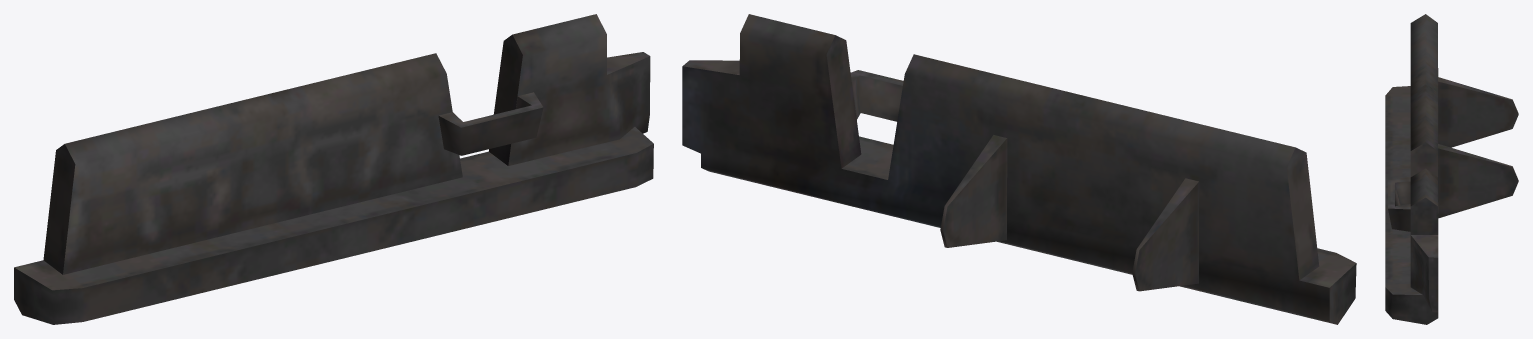
3 views of the same model, side by side, from view 1: azimuth 30°, elevation 25°; view 2: azimuth 150°, elevation 25°; view 3: azimuth 270°, elevation 25° (orthographic). The views are drawn at different scales.
Visible parts, largest first — view 1: set_0_group_0; view 2: set_0_group_0; view 3: set_0_group_0.
Boxes of the visible parts, x1=… form: set_0_group_0: x1=14, y1=14, x2=653, y2=324; set_0_group_0: x1=682, y1=14, x2=1356, y2=324; set_0_group_0: x1=1385, y1=14, x2=1518, y2=324.
Bounding box in the file's own units: 0.725 × 0.1782 × 0.1883.
1 material, 1 textured.
